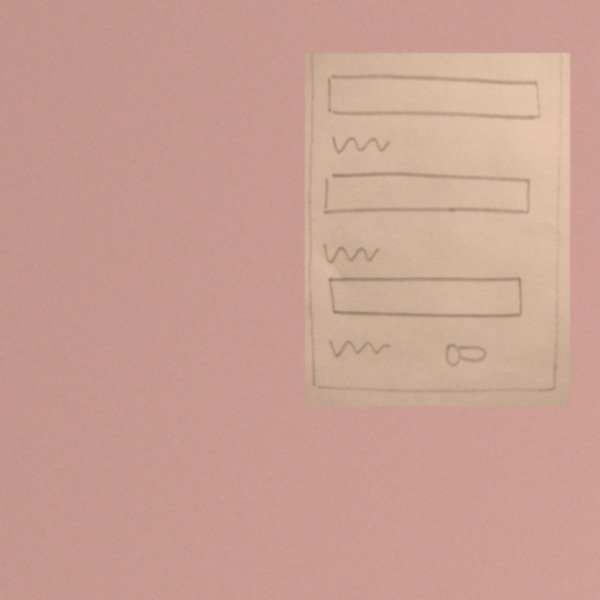switch: (442, 337, 490, 370)
text: (327, 335, 392, 361), (326, 132, 391, 156), (319, 241, 384, 265)
text_input: (324, 71, 543, 126), (318, 167, 537, 222), (326, 271, 526, 320)
